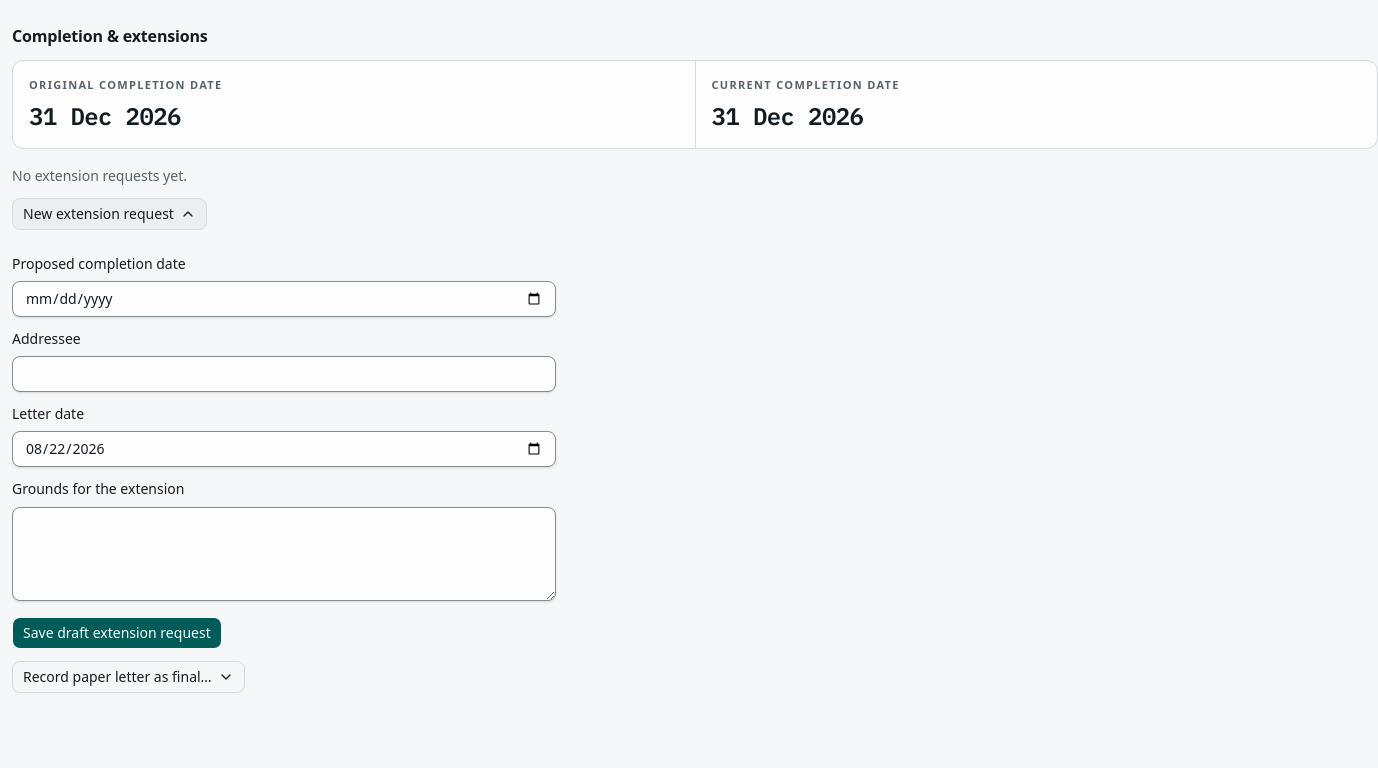
Test: CompletionExtensions › drafts an extension request against the current completion date
The width and height of the screenshot is (1378, 768).
In the date field labelled "Proposed completion date": (284, 299) [12,281,556,317], type "2027-03-31"
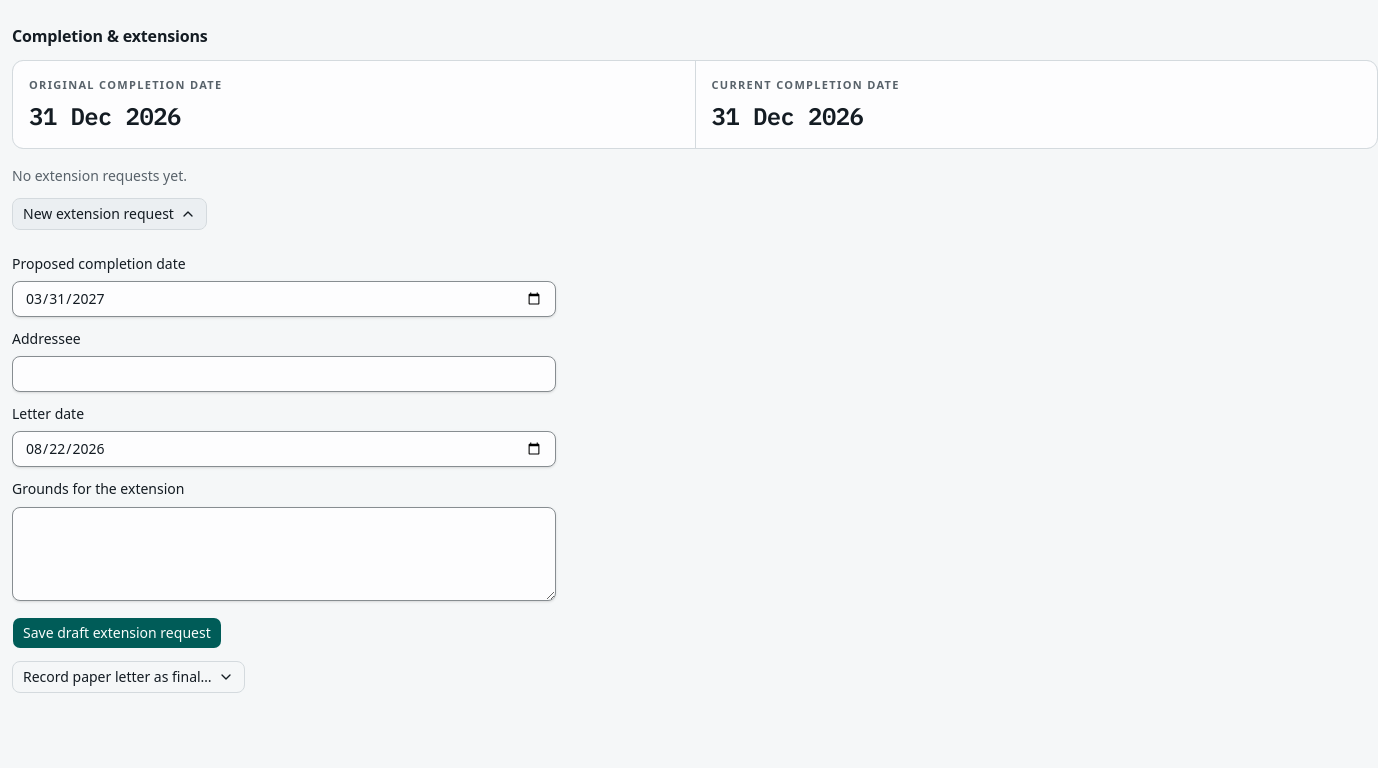
In the field labelled "Addressee": (284, 374) [12,356,556,392], type "Sr. DEE (G) NR"
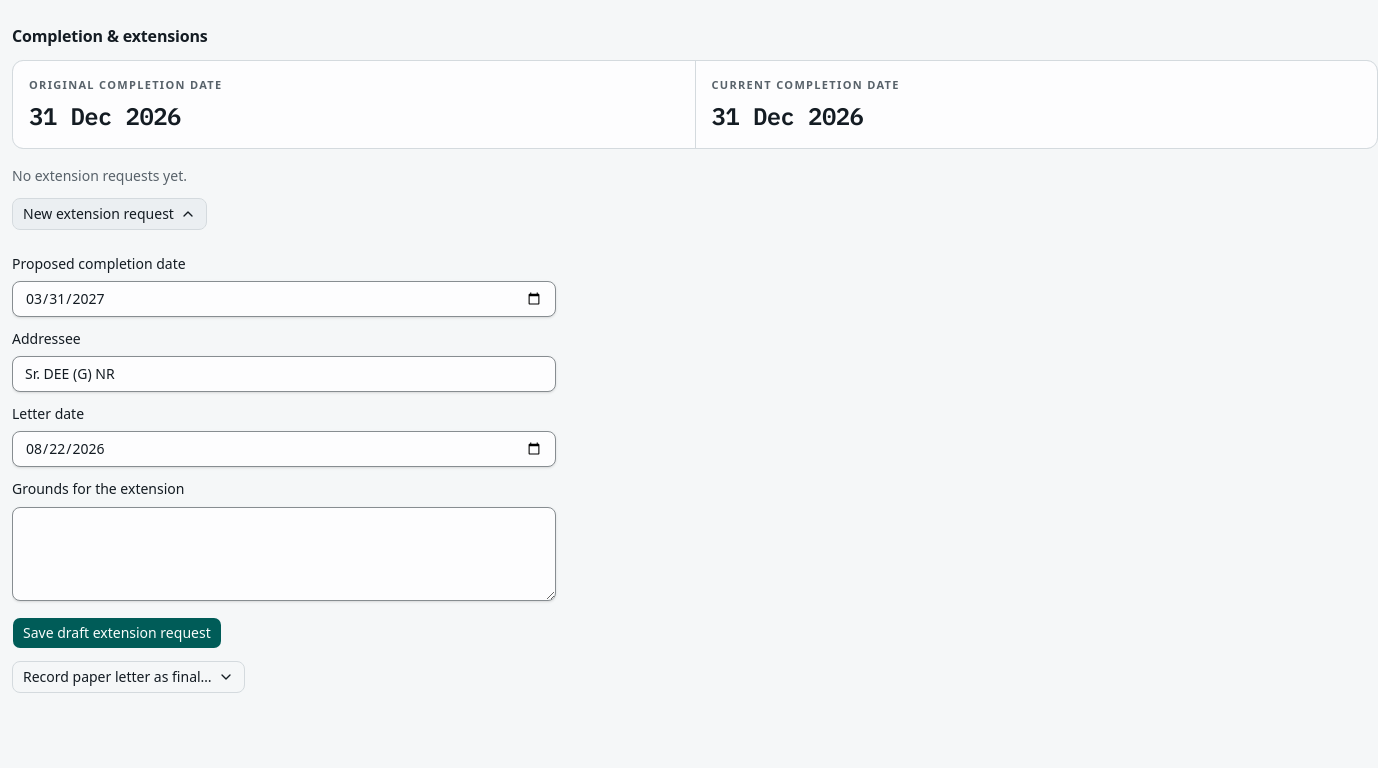
In the date field labelled "Letter date": (284, 449) [12,431,556,467], type "2026-08-01"
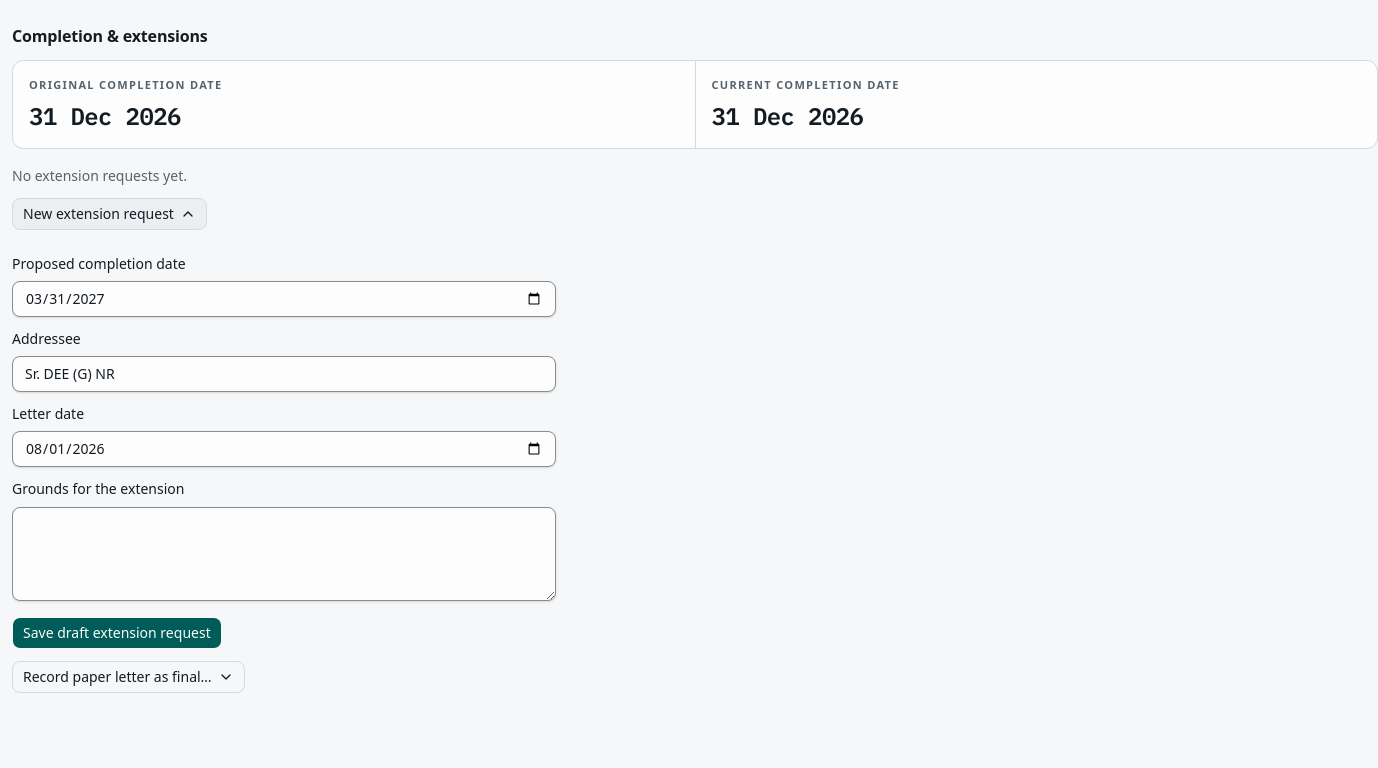
In the text box labelled "Grounds for the extension": (284, 554) [12,506,556,600], type "Site not handed over in time."
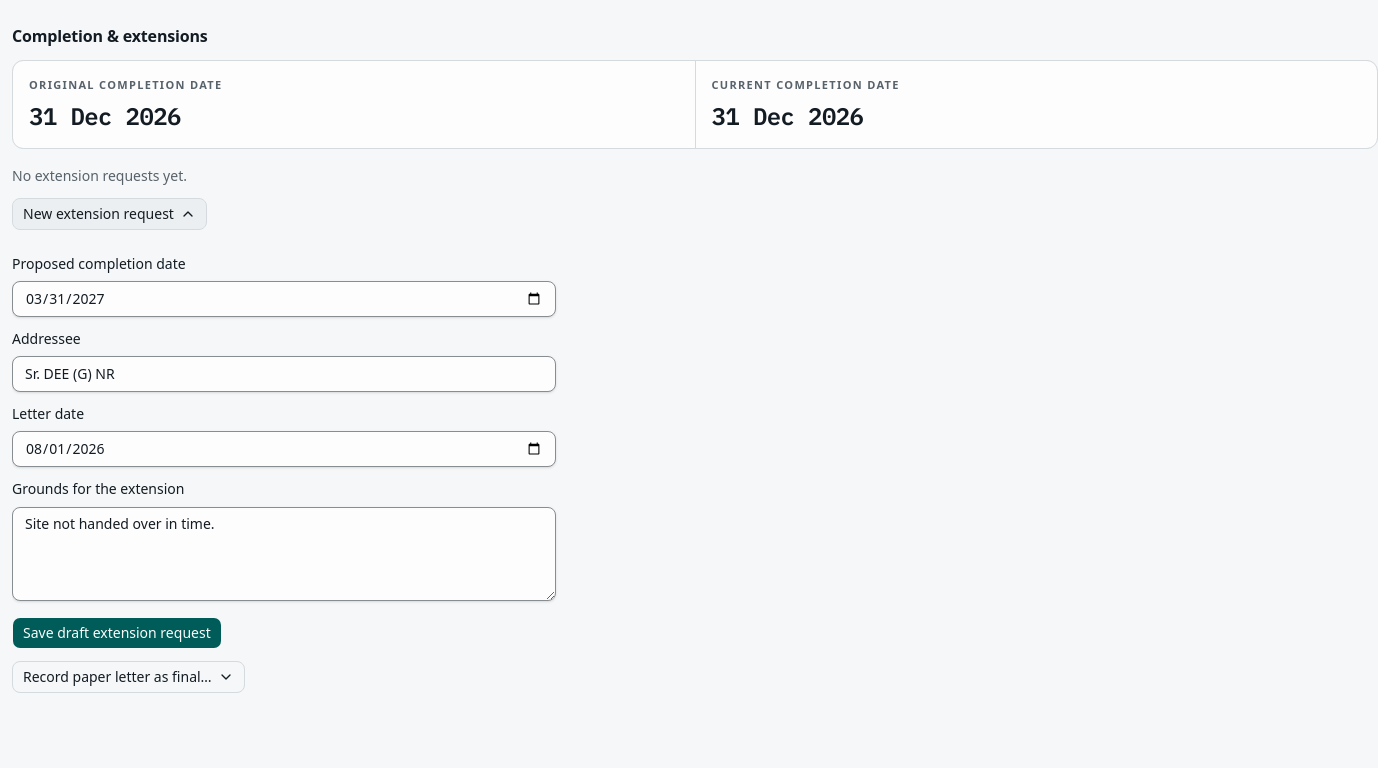
Click the button "Save draft extension request": (117, 632) [12,616,222,648]
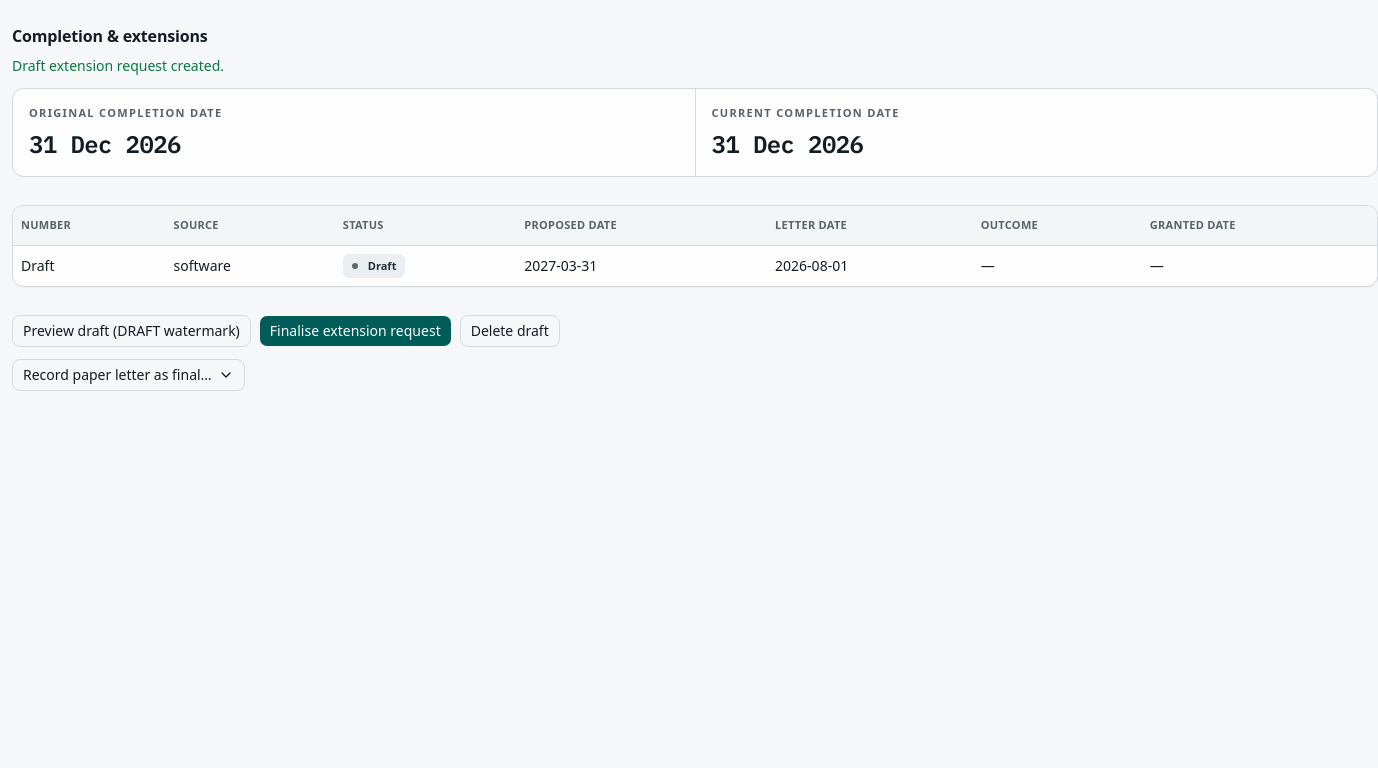
Result: the button "Finalise extension request" is shown at [259,314,452,346]
